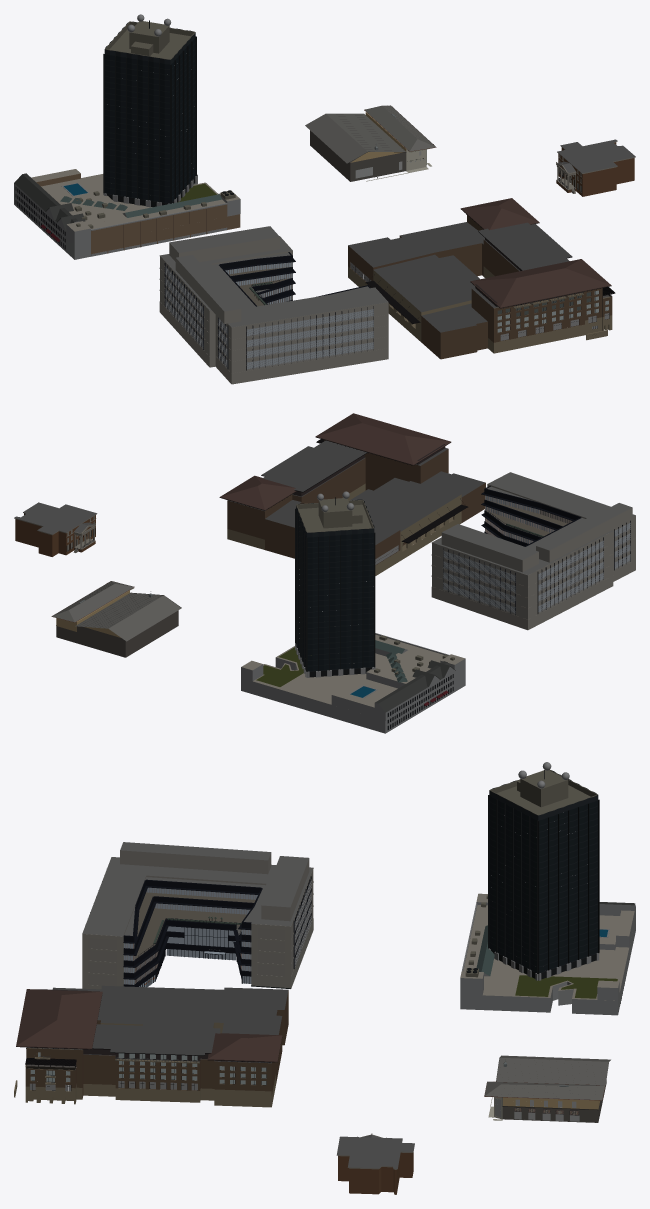
3 views of the same model, one above another, from view 1: azimuth 30°, elevation 25°; view 2: azimuth 150°, elevation 25°; view 3: azimuth 270°, elevation 25° (orthographic). The views are drawn at different scales.
Visible parts, largest first — view 1: opaque, glass; view 2: opaque, glass; view 3: opaque, glass.
Boxes of the visible parts, box(x1,y1,x2,y2) form: opaque: box(14, 14, 635, 384); glass: box(15, 37, 609, 368); opaque: box(14, 413, 635, 733); glass: box(296, 495, 630, 729); opaque: box(14, 762, 635, 1194); glass: box(30, 795, 597, 1121).
Bounding box in the file's own units: 262 × 93.12 × 249.
Materials: 2 (2 with a texture image).
